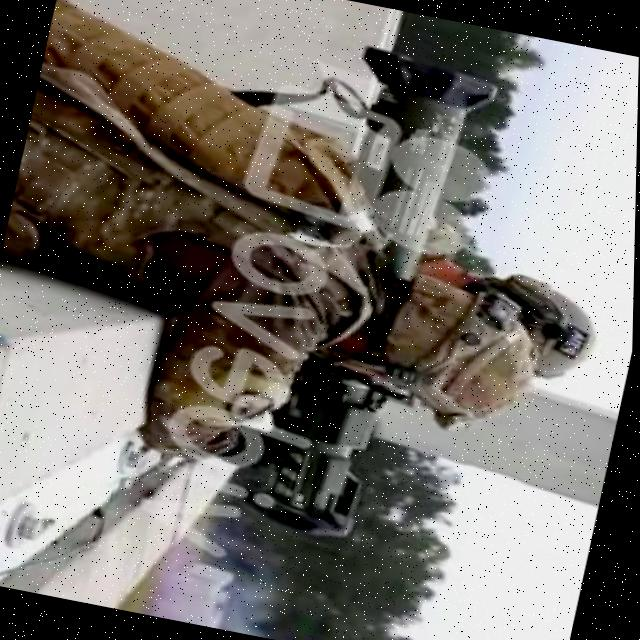rocket: (185, 22, 530, 558)
